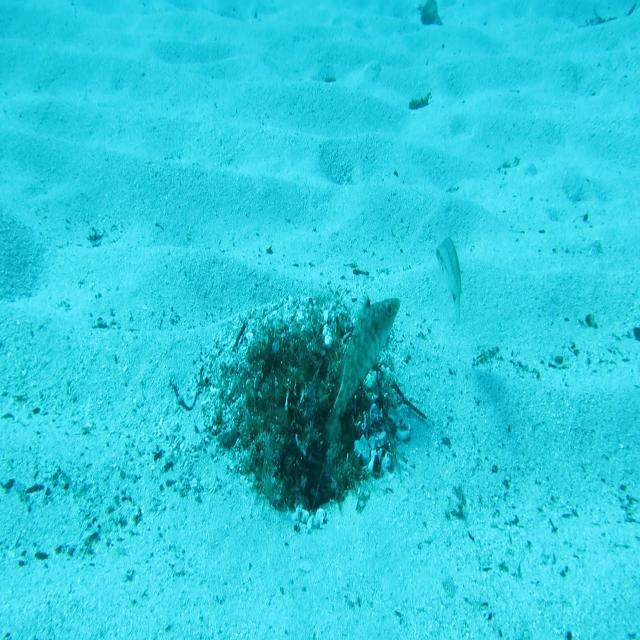MAF: (320, 289, 402, 448)
core_nest: (274, 348, 324, 380)
female: (433, 234, 465, 330)
nest: (194, 282, 414, 541)
vegetation: (406, 91, 434, 113)
